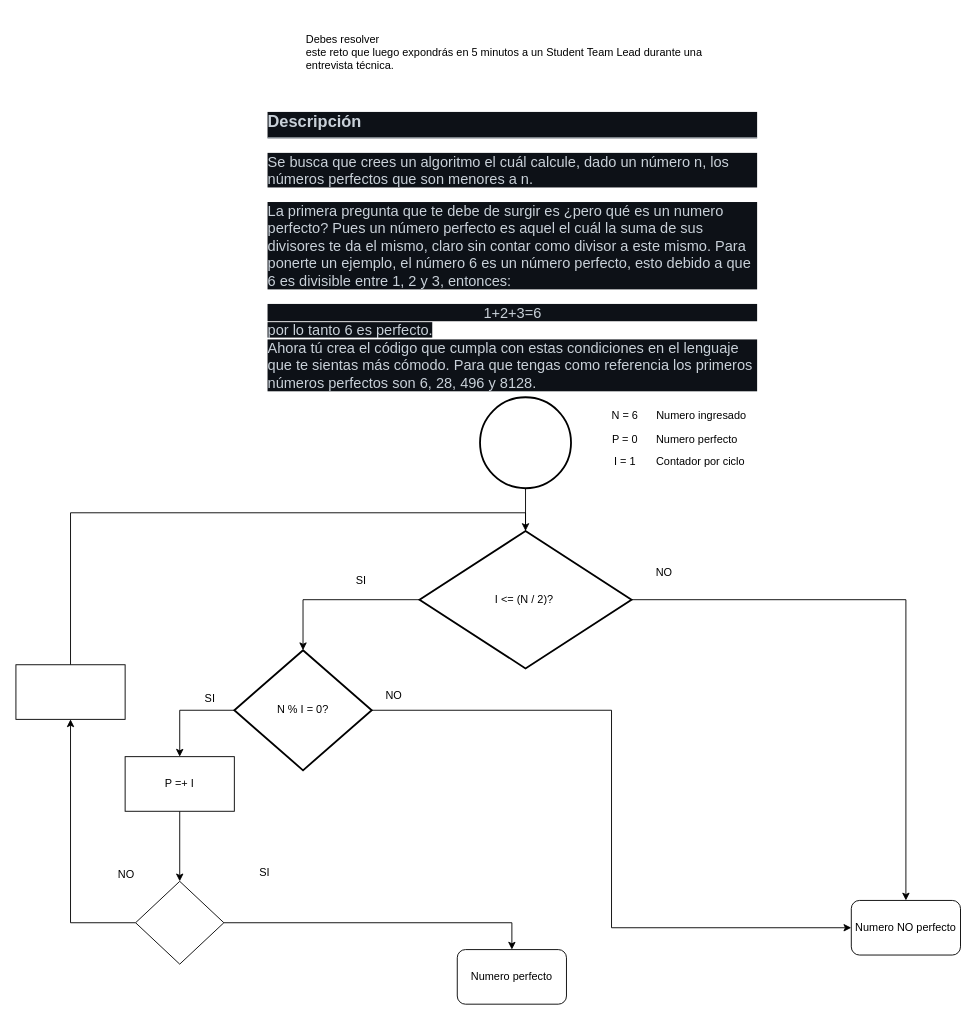
Image size: 976x1020. Some labels were removed from this diagram. The shapes that lost their labels are listed below. From the top down, each one's centre as x and y in pixels, then its label:
At pixel 525 442: "Numero N".
At pixel 70 691: "I++".
At pixel 179 922: "P != 0 && P = N".
